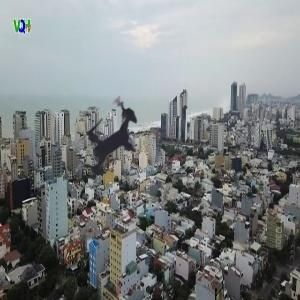drone: (44, 79, 175, 210)
